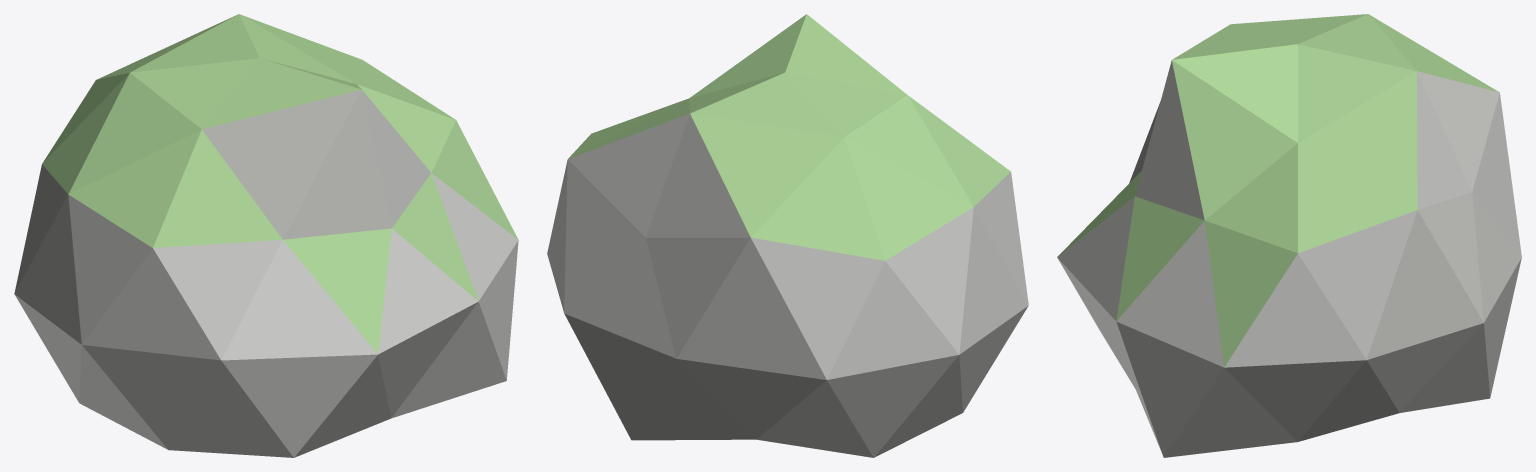
Rendered from rock_small_A.glb.
3 renders of one model, left to right at view 1: azimuth 30°, elevation 25°; view 2: azimuth 150°, elevation 25°; view 3: azimuth 270°, elevation 25°, orthographic. The views are drawn at different scales.
Visible parts, largest first — view 1: rock_small_A; view 2: rock_small_A; view 3: rock_small_A.
Part boxes in pixels (left/top/right/bottom): rock_small_A: left=14, top=14, right=518, bottom=457; rock_small_A: left=547, top=14, right=1028, bottom=457; rock_small_A: left=1057, top=14, right=1521, bottom=457.
Bounding box in the file's own units: 0.3015 × 0.2138 × 0.2745.
